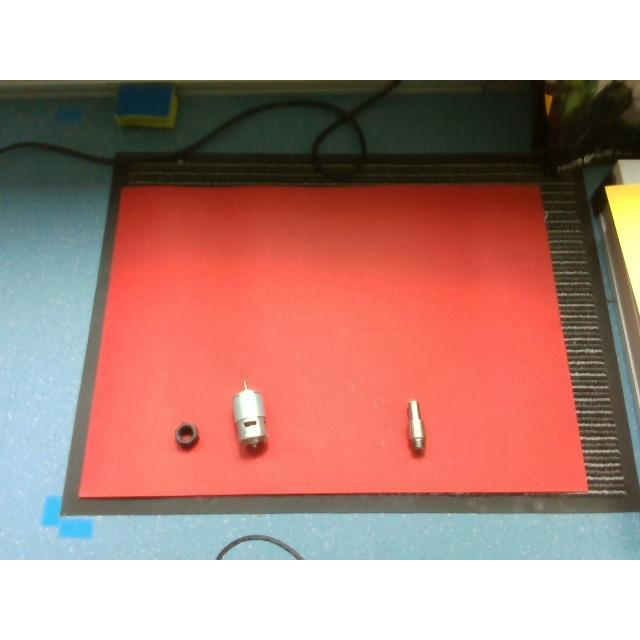Axis2: (408, 400, 428, 456)
M20: (175, 424, 198, 450)
Motor2: (231, 380, 269, 448)
